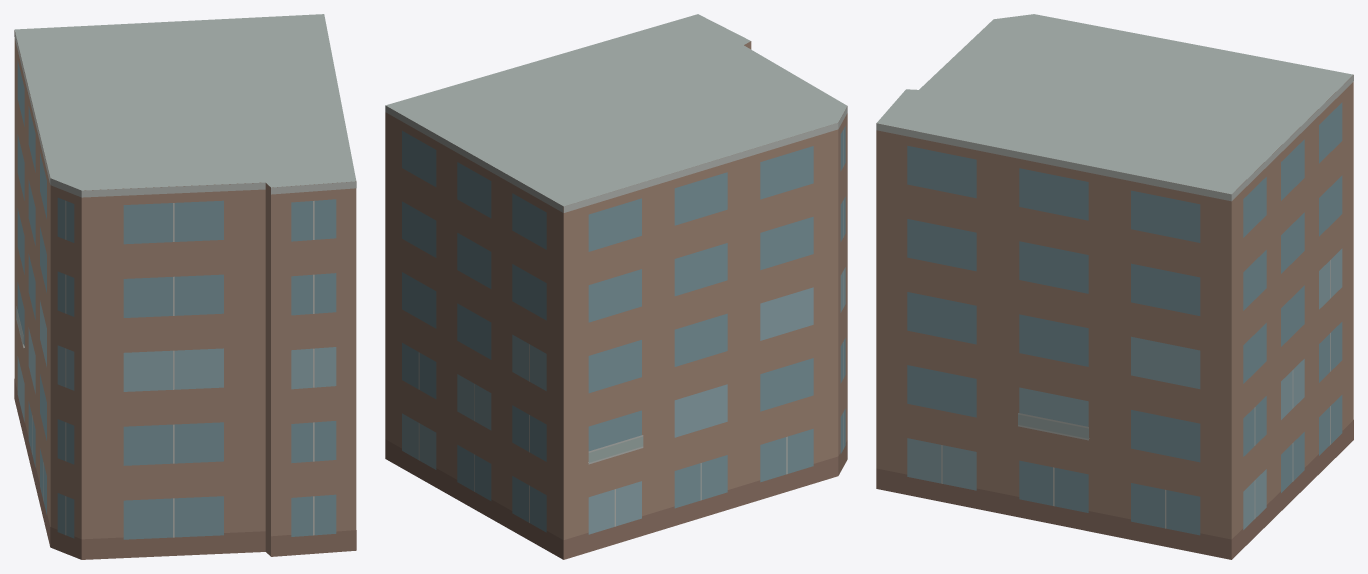
The model's file is survey-upis-32976321.glb.
3 views of the same model, side by side, from view 1: azimuth 30°, elevation 25°; view 2: azimuth 150°, elevation 25°; view 3: azimuth 270°, elevation 25° (orthographic). The views are drawn at different scales.
Visible parts, largest first — view 1: survey-upis-32976321.tmp; view 2: survey-upis-32976321.tmp; view 3: survey-upis-32976321.tmp.
Part boxes in pixels (box(x1,y1,x2,y2)): survey-upis-32976321.tmp: box(14, 14, 356, 559); survey-upis-32976321.tmp: box(385, 14, 847, 559); survey-upis-32976321.tmp: box(876, 14, 1353, 559).
Bounding box in the file's own units: 13.66 × 12.9 × 15.28.
